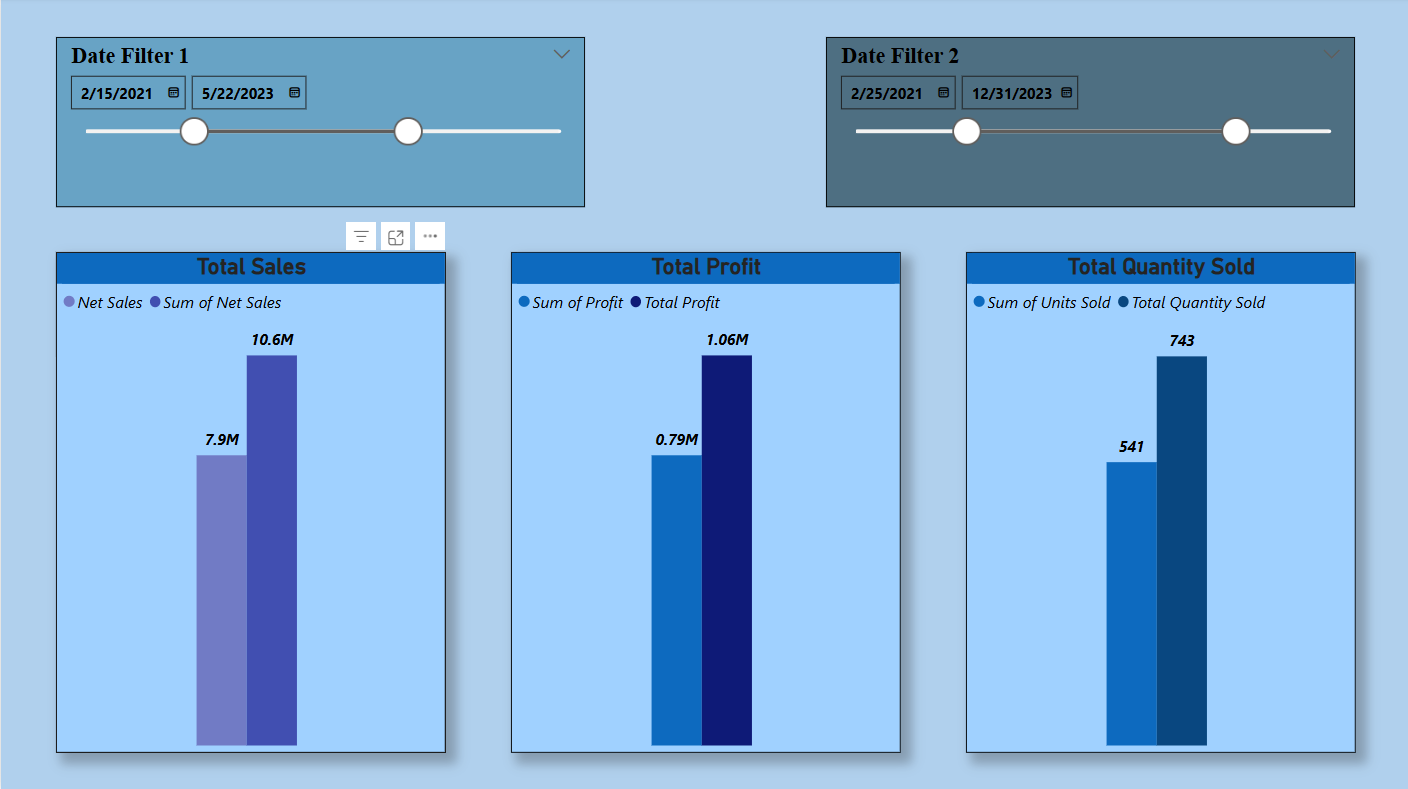

The page's visual inventory and layout, read from the dashboard file:
{"tool":"powerbi","page":{"name":"Requirement 4","canvas":[1280,720],"ordinal":3},"visuals":[{"type":"slicer","fields":{"Values":["Date Table 1.Date"]},"box":[50,36,480.2,154.7],"z":0},{"type":"slicer","fields":{"Values":["Date Table 2.Date"]},"box":[748.8,36,480.2,154.7],"z":1},{"type":"clusteredColumnChart","title":"Total Sales","fields":{"Y":["Sum(Fact Table.Net Sales)","Date Table 1.Sum of Net Sales"]},"box":[50,231.4,353.5,454.7],"z":2},{"type":"clusteredColumnChart","title":"Total Profit","fields":{"Y":["Sum(Fact Table.Profit)","Measures Table.Total Profit"]},"box":[462.8,231.4,353.5,454.7],"z":3},{"type":"clusteredColumnChart","title":"Total Quantity Sold","fields":{"Y":["Sum(Fact Table.Units Sold)","Measures Table.Total Quantity Sold"]},"box":[875.6,231.4,353.5,454.7],"z":4}]}

Visuals, with their boxes in screenshot pixels (x1, y1, x2, y2), scaled from the page's 1280x720 canvas onto the 1408x789 screenshot:
slicer - Date Table 1.Date: locate(55, 39, 583, 209)
slicer - Date Table 2.Date: locate(824, 39, 1352, 209)
"Total Sales" clusteredColumnChart: locate(55, 254, 444, 752)
"Total Profit" clusteredColumnChart: locate(509, 254, 898, 752)
"Total Quantity Sold" clusteredColumnChart: locate(963, 254, 1352, 752)
